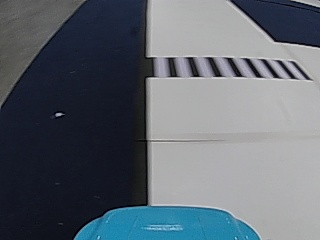CrossWalk: (152, 58, 302, 78)
